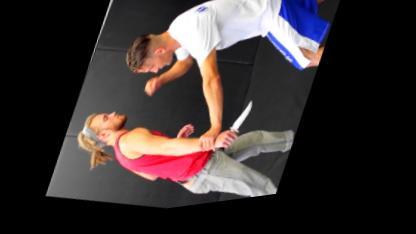knife: (218, 100, 261, 166)
